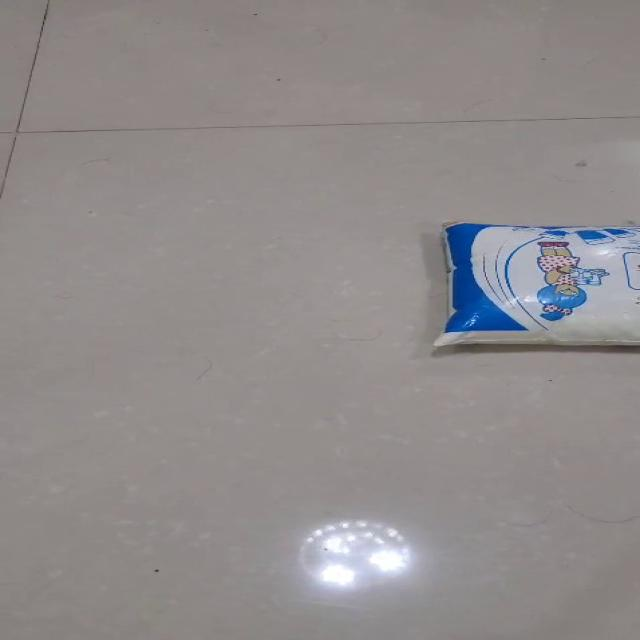plastic: (431, 219, 639, 347)
